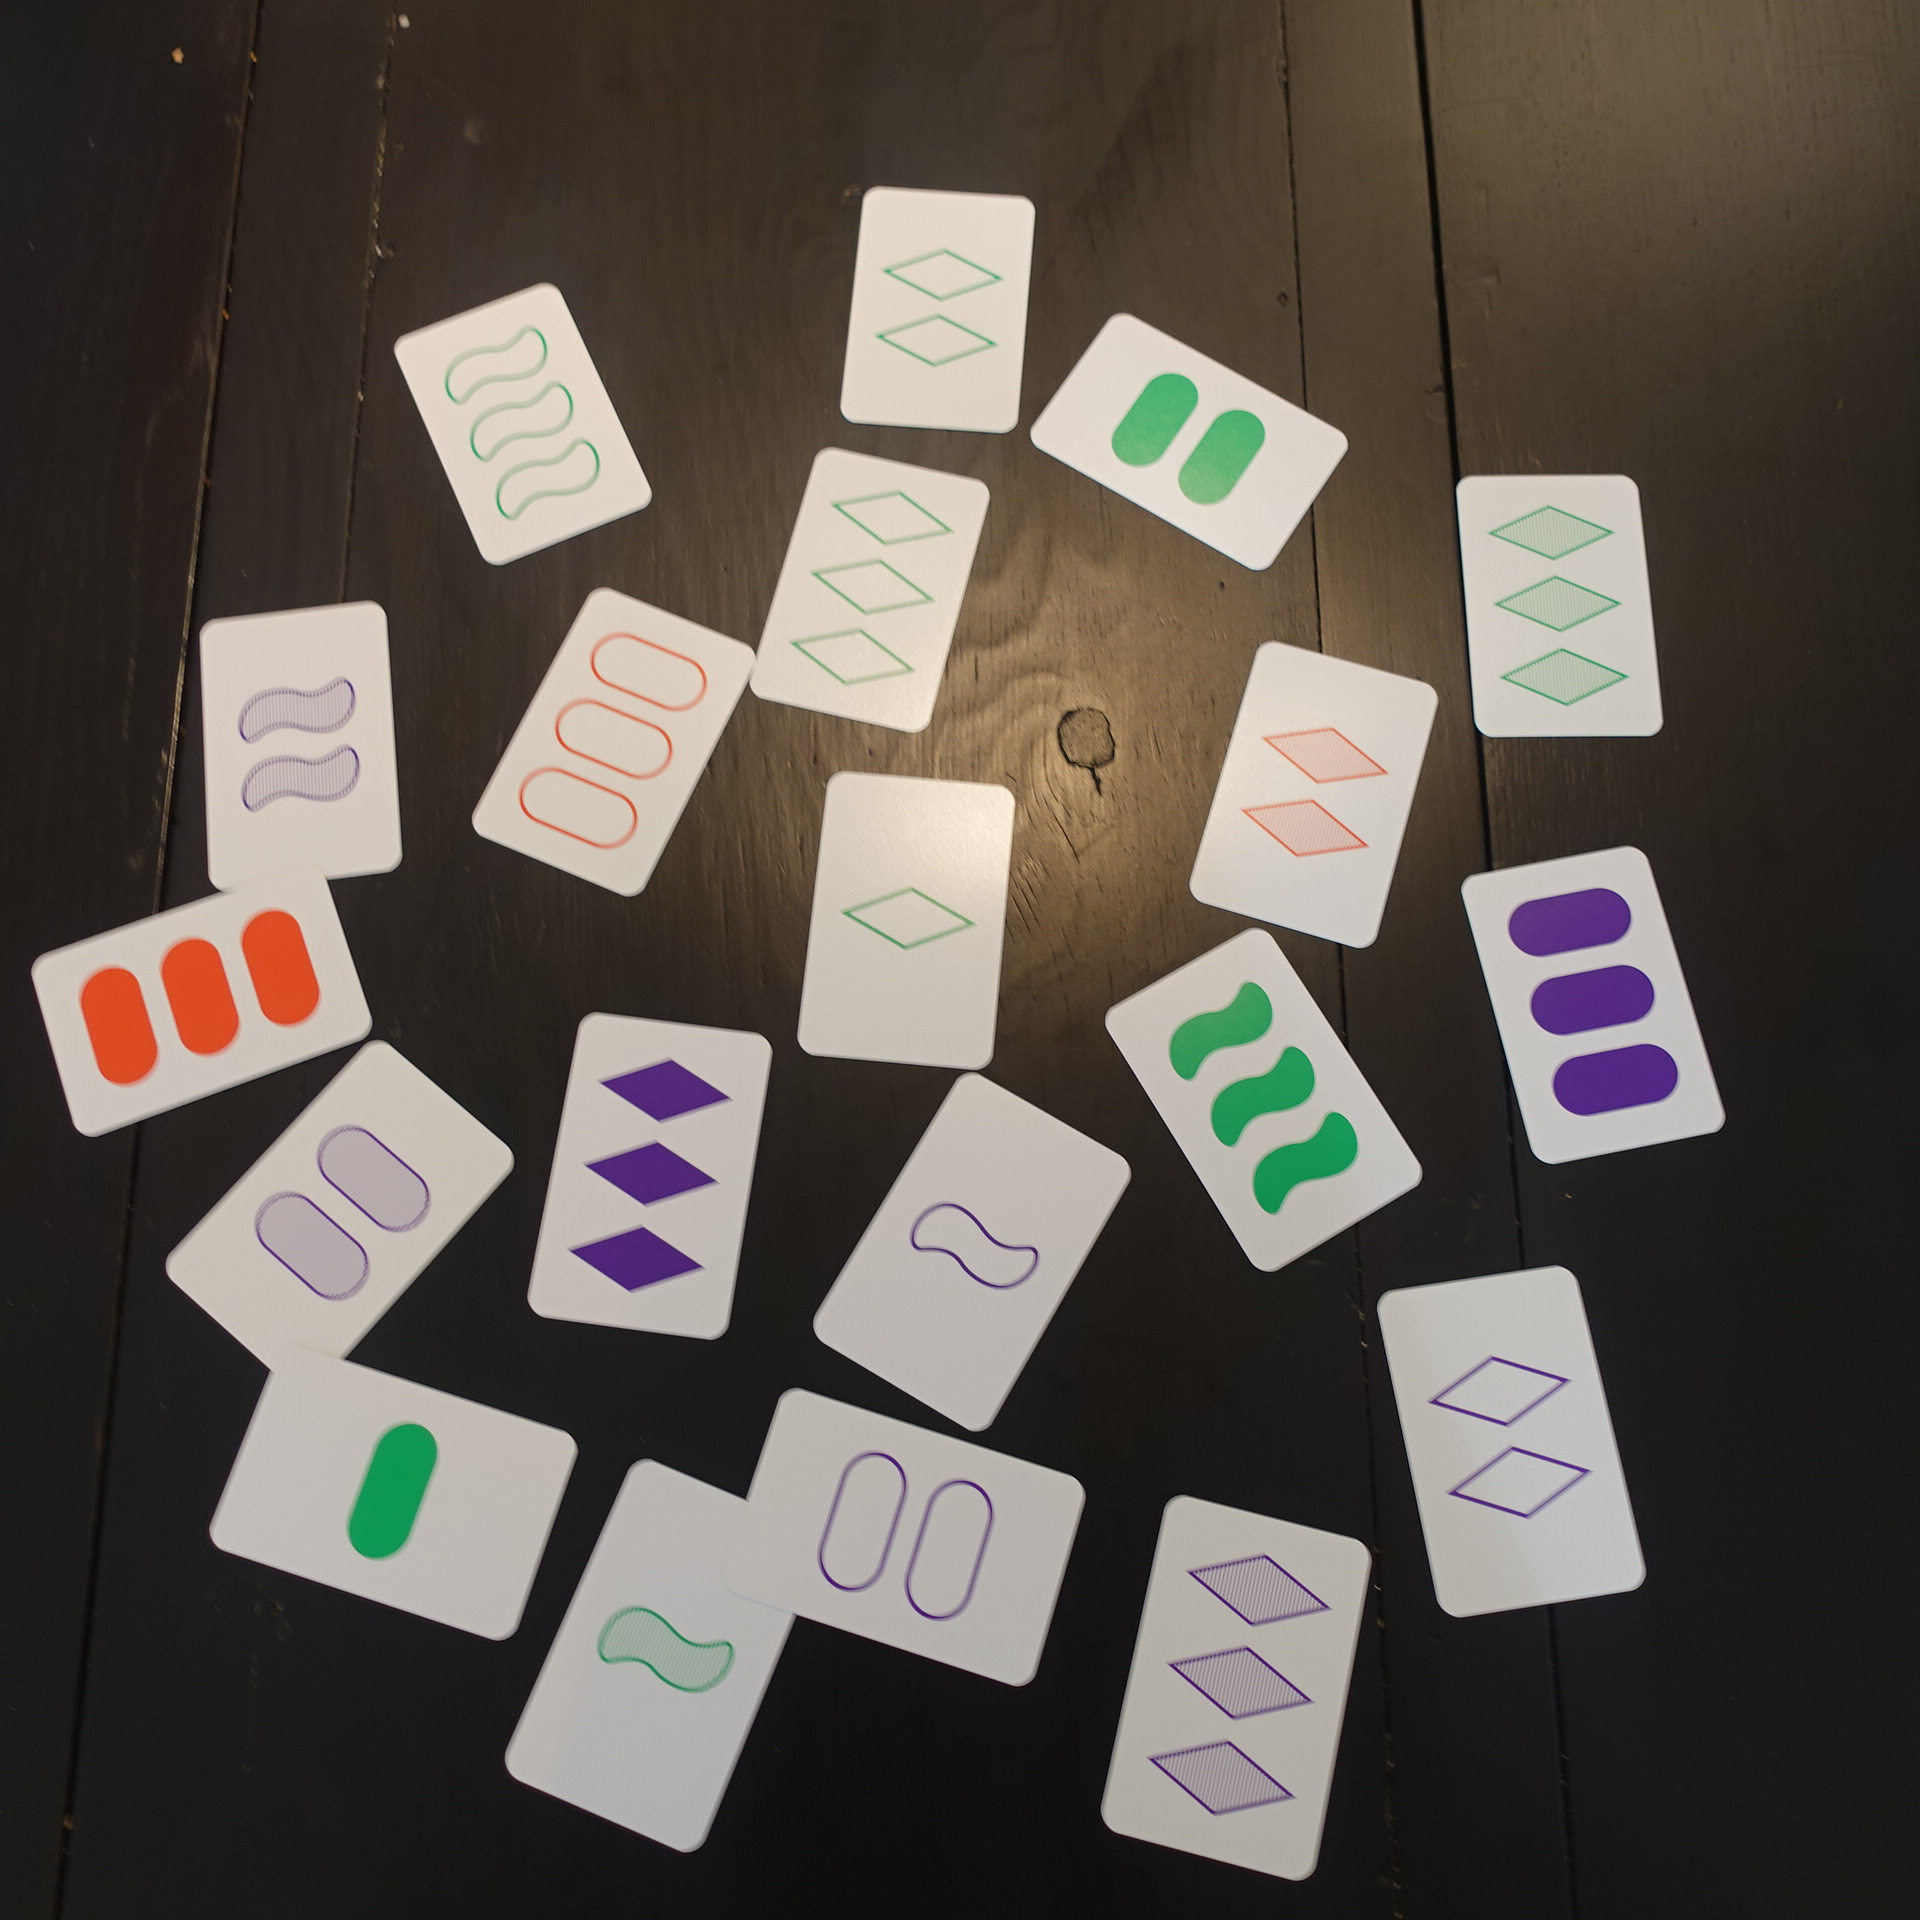c-1-f-d-g: (498, 1444, 809, 1864), (1092, 914, 1435, 1284), (179, 1338, 585, 1649), (1022, 306, 1357, 580), (383, 273, 666, 575), (774, 765, 1036, 1078), (740, 438, 1000, 740), (1436, 469, 1684, 745), (825, 183, 1044, 443)
c-1-f-d-p: (148, 1036, 524, 1398), (807, 1060, 1138, 1445), (716, 1378, 1097, 1698), (1088, 1486, 1387, 1894), (1364, 1255, 1658, 1628), (1435, 832, 1737, 1173), (505, 997, 781, 1347), (178, 591, 418, 898)
c-1-f-d-r: (26, 863, 383, 1148), (468, 580, 761, 907), (1178, 631, 1445, 962)
